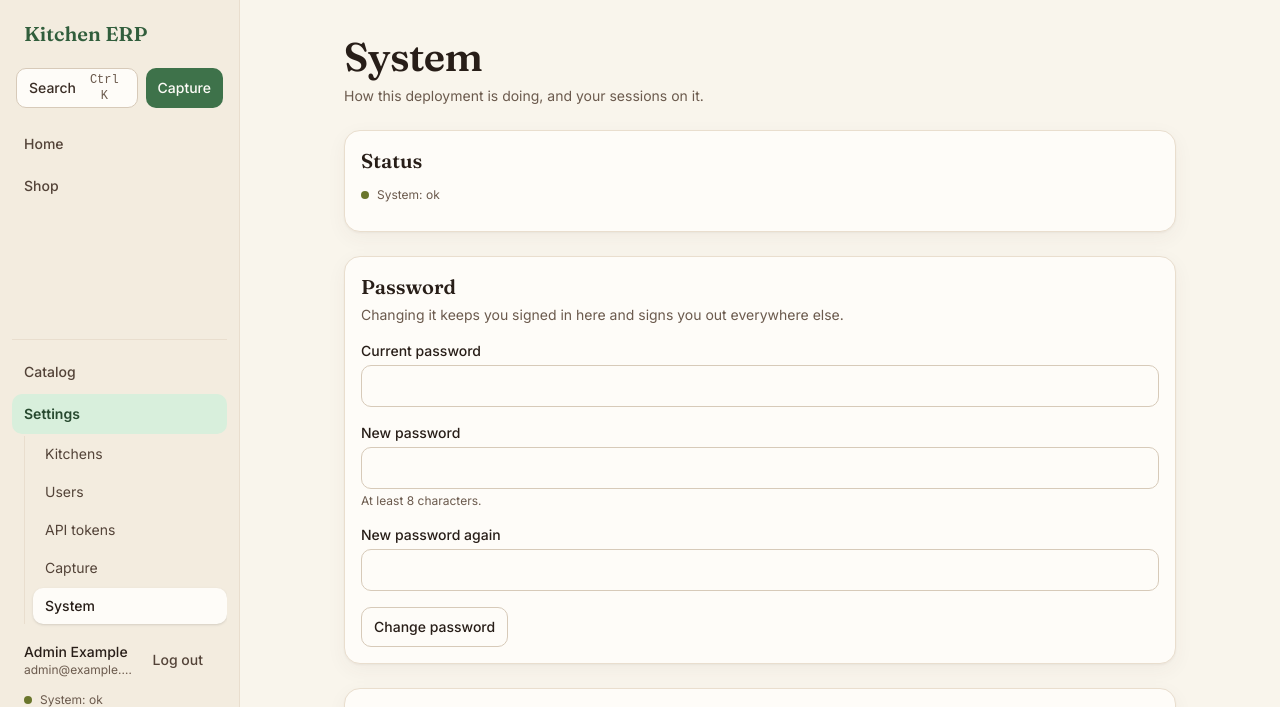
Test: the search palette (UI-2.8) › groups results with ingredients first, hides empty groups, and opens the chosen one by keyboard
expect the heading "System" is shown: met, box x1=344 y1=32 x2=482 y2=81
Click the button "Search Ctrl K": (77,88) x1=16 y1=68 x2=138 y2=108
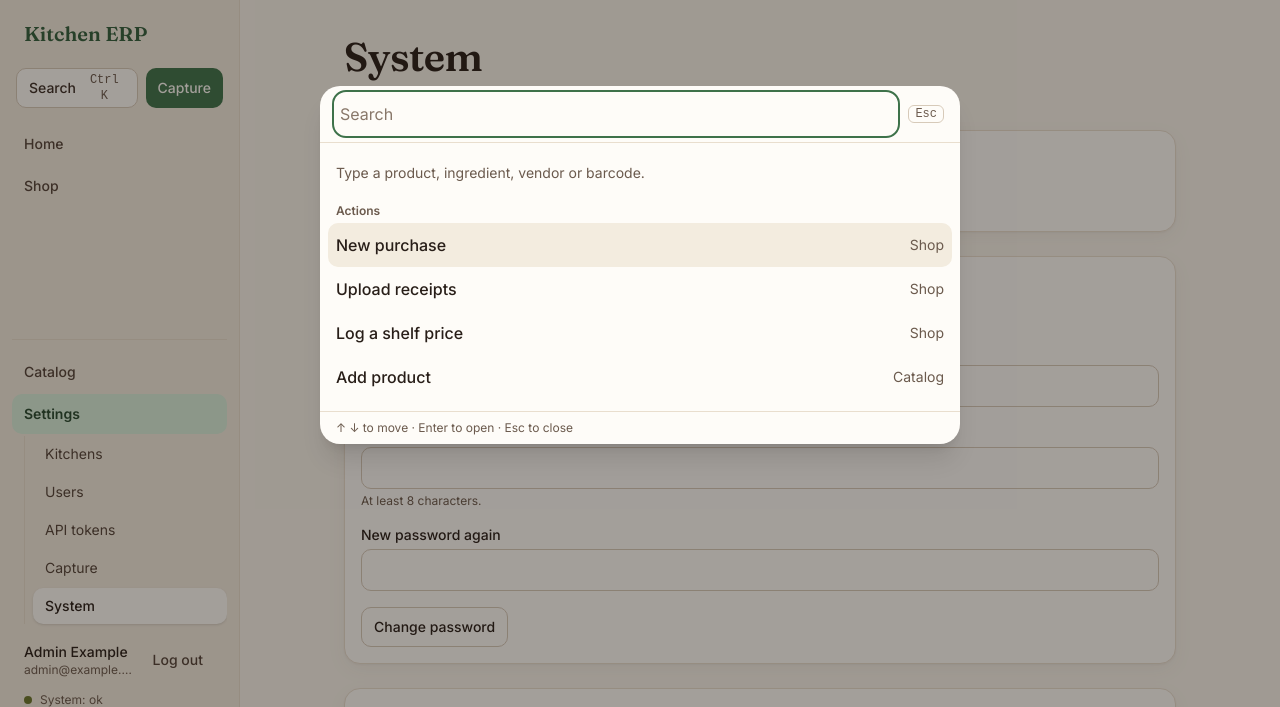
In the dropdown: (616,114) x1=336 y1=94 x2=896 y2=134, type "basil"
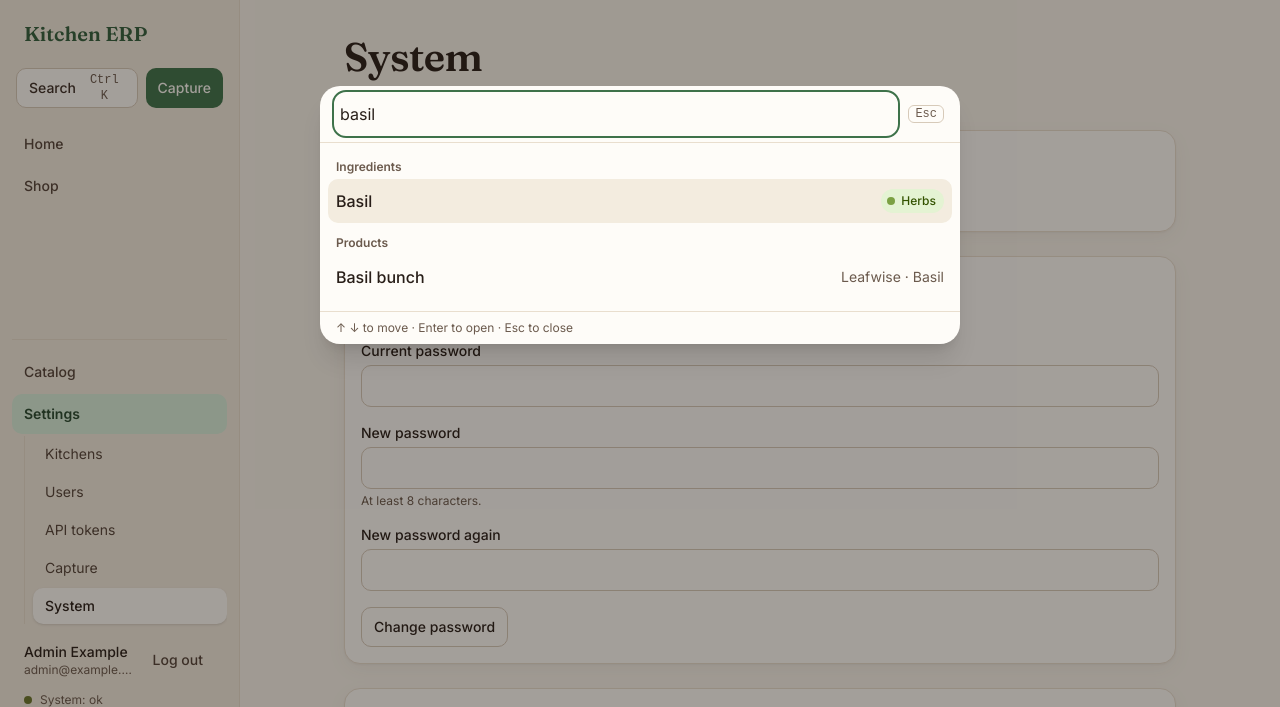
Press Arrowdown
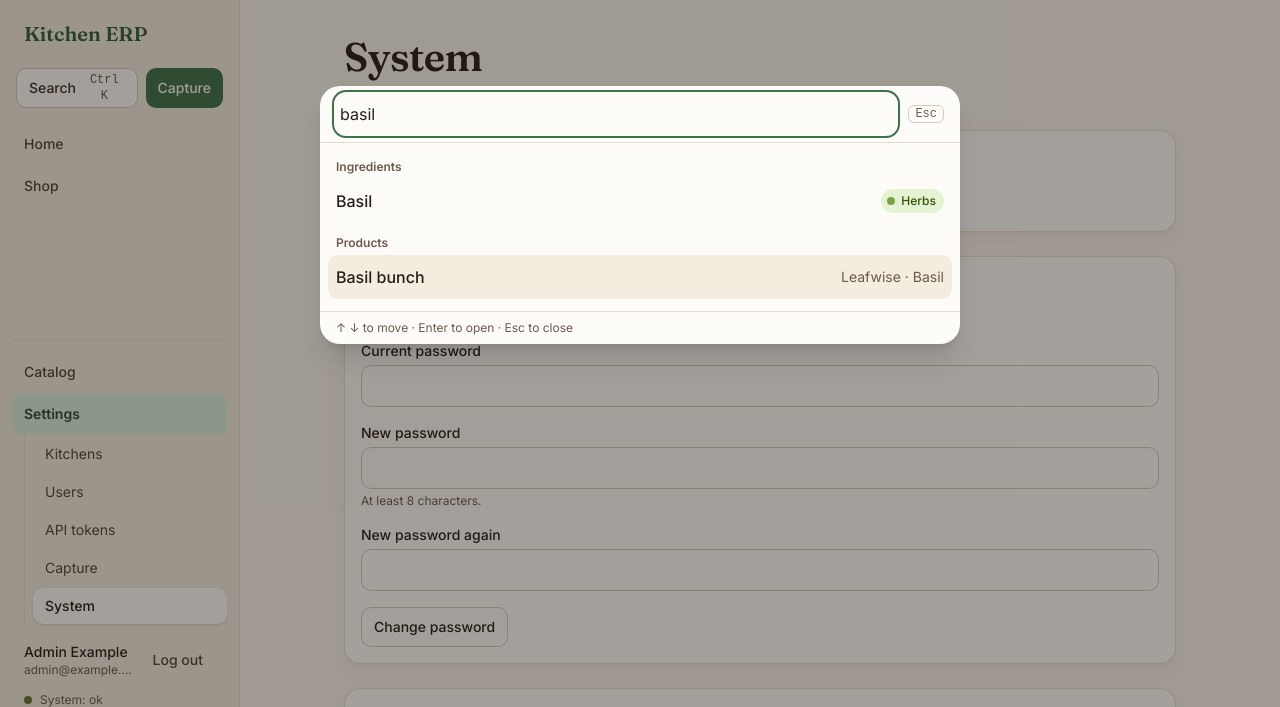
expect the option "Basil bunch Leafwise · Basil" is selected: met, box x1=328 y1=255 x2=952 y2=299
Press Enter
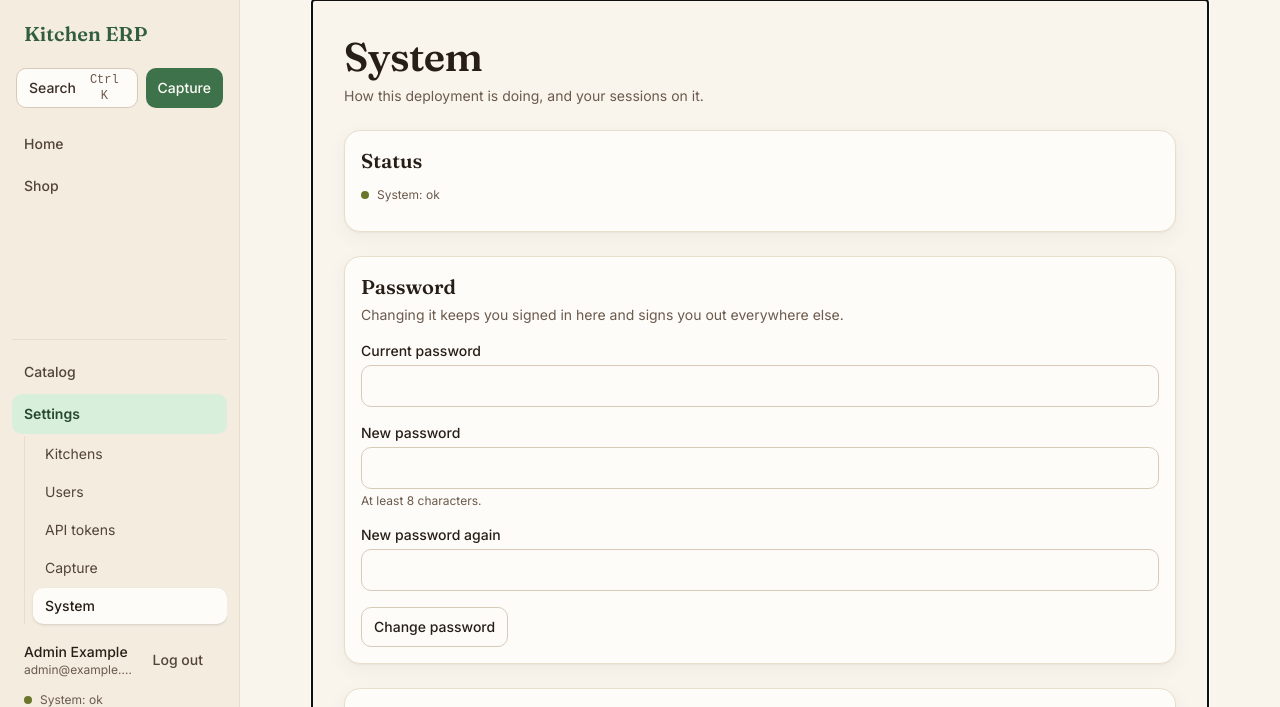
expect the dialog is gone: met
